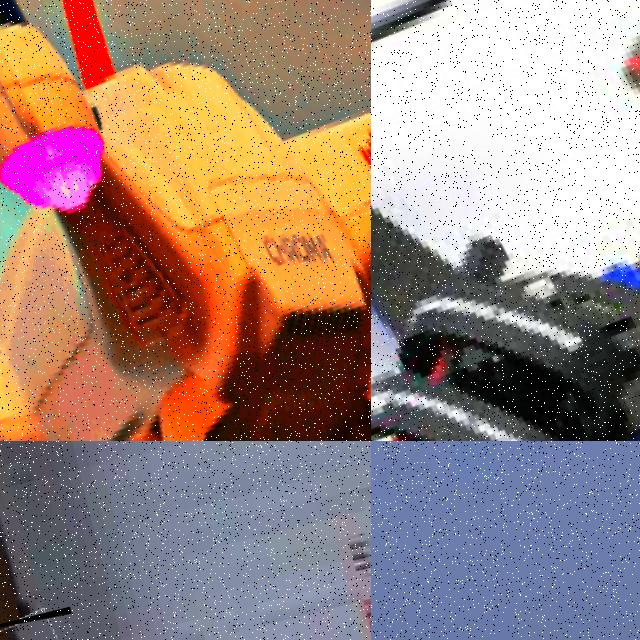drone: (0, 0, 371, 441), (371, 0, 640, 441)
